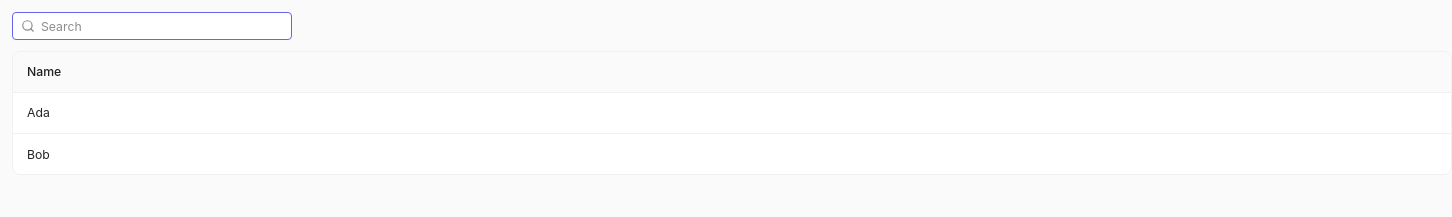
Test: DataTable › shows loading, rows, search and an empty state
Later steps or results of the test are not shown.
Expected: the number of rows is 3, [13, 52, 1451, 92]; [13, 92, 1451, 134]; [13, 134, 1451, 174]
Type "ad" into the field with placeholder "Search" at (152, 26), box [12, 12, 292, 40]
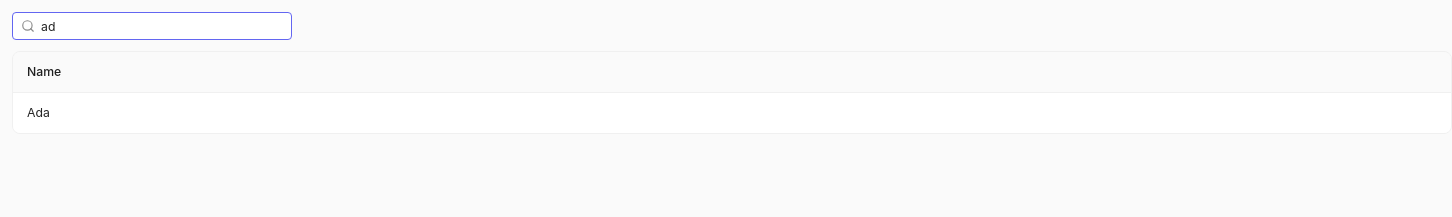
Expected: the number of rows is 2, [13, 52, 1451, 92]; [13, 92, 1451, 133]
Replace the text in the field with placeholder "Search" with "zed" at (152, 26), box [12, 12, 292, 40]
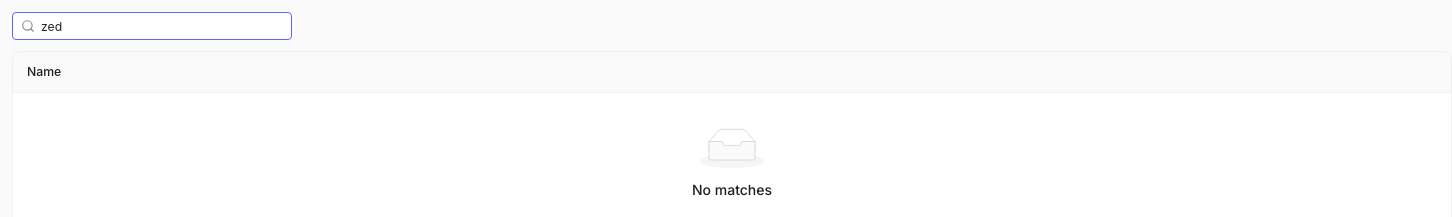
Expected: the heading "No matches" is shown, [692, 179, 772, 200]
